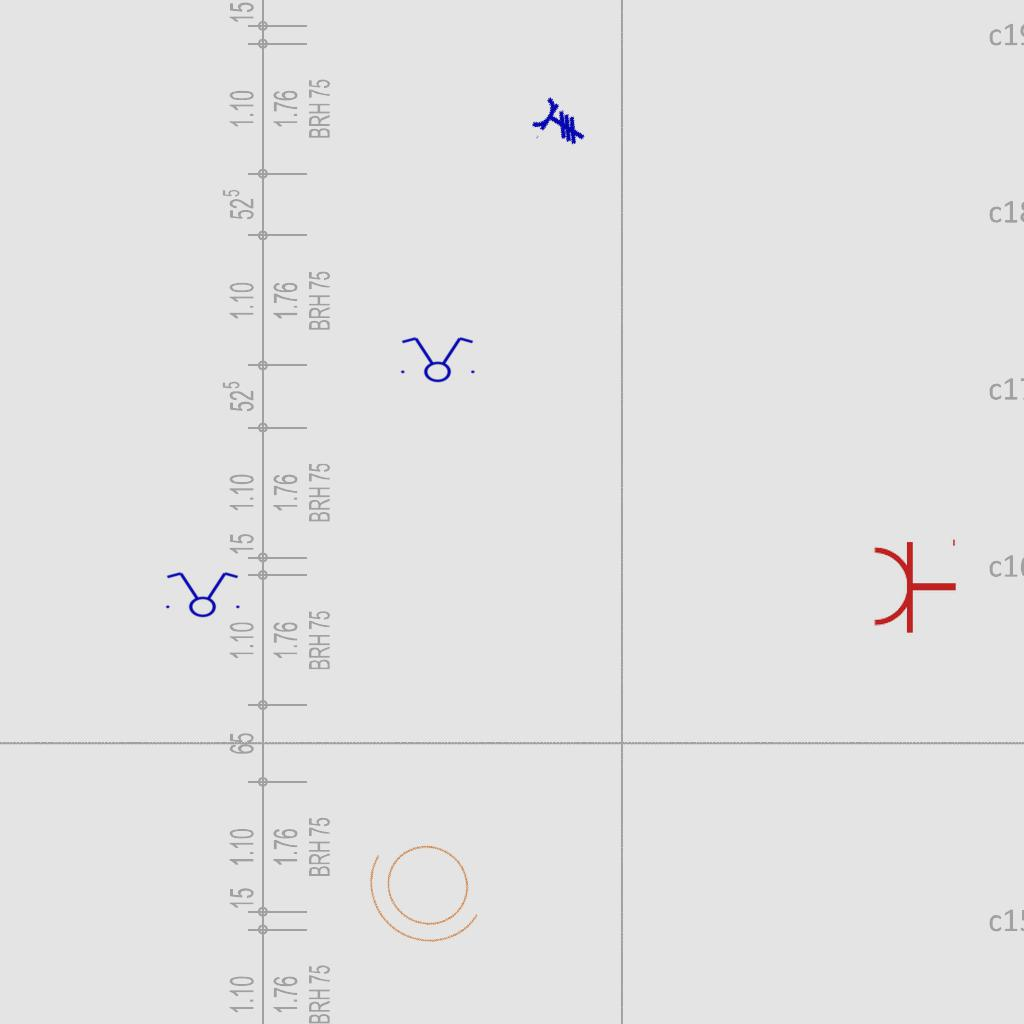CEE_Drehstrom_Steckdose_16_32_A: (525, 95, 594, 161)
Scheinwerfer_fuer_Alarmbeleuchtung: (342, 809, 514, 973)
Schukosteckdose_einfach: (871, 535, 958, 635)
Serienschalter: (160, 570, 244, 618), (395, 335, 479, 383)
